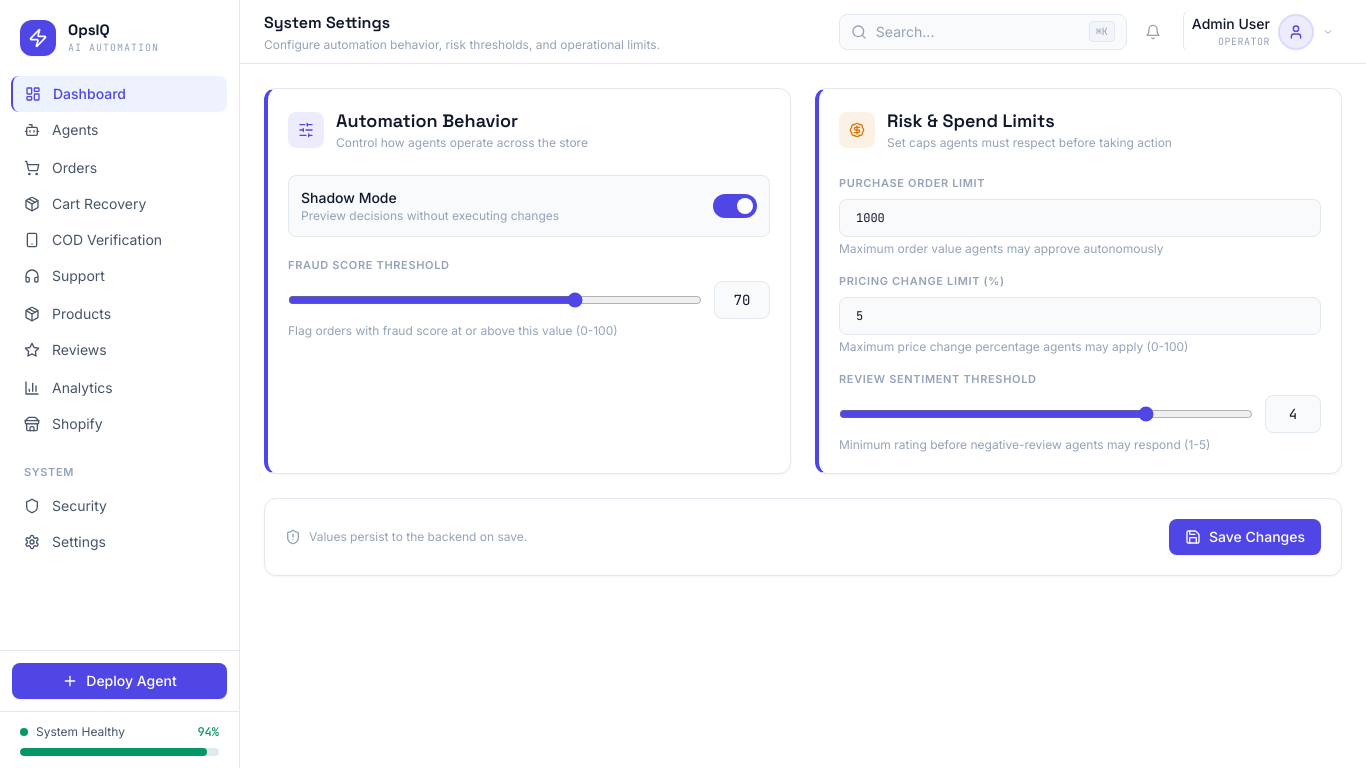
it: SettingsPage › updates fraud score threshold via range input
Set the slider next to "70" to "85" at x=634, y=300, box [288,292,702,308]
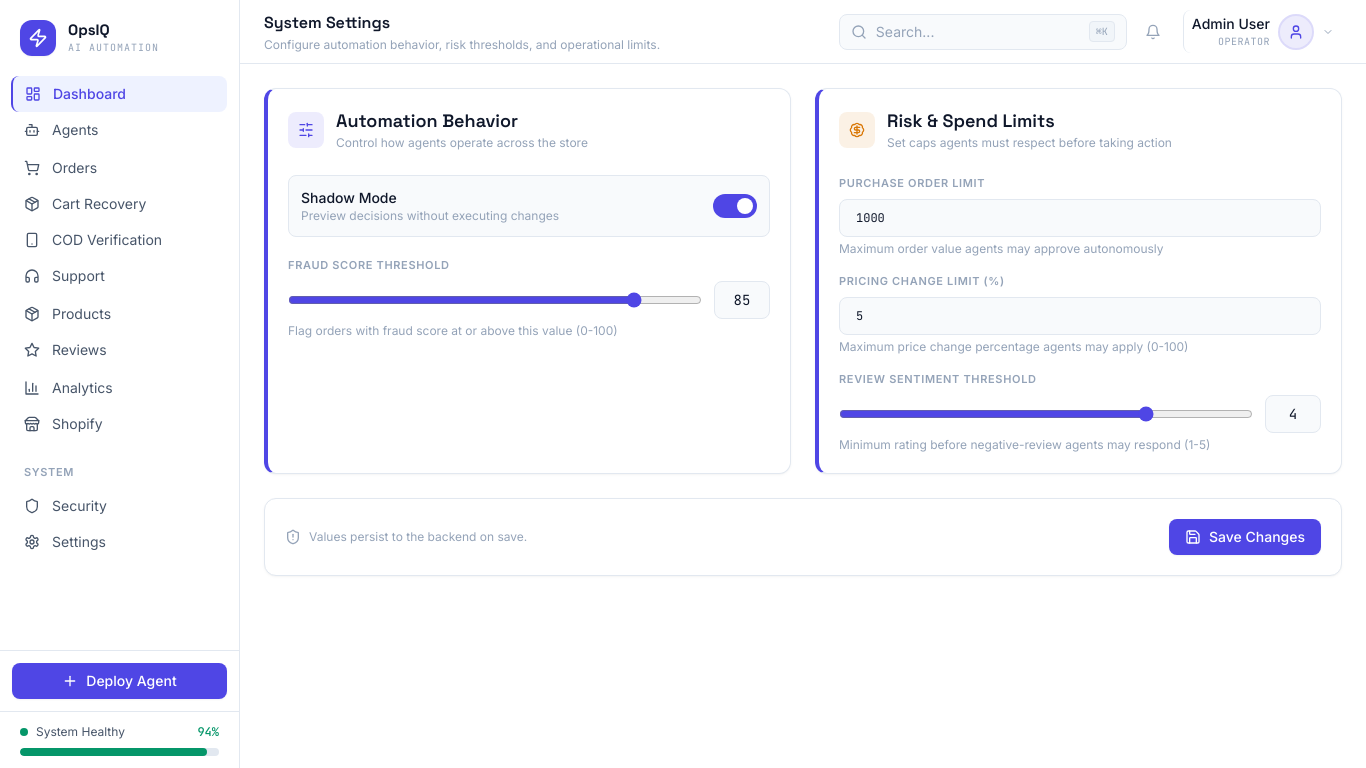
expect the button "85" is shown: met, box [714,281,770,319]
